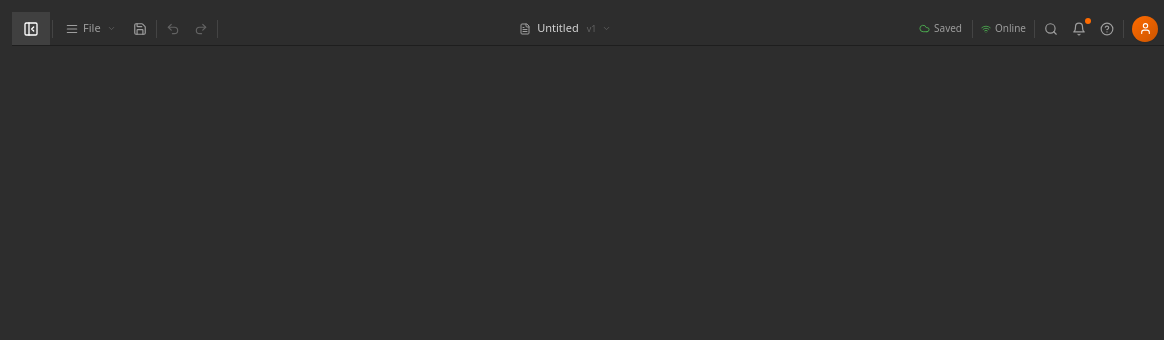
Scenario: DocumentHeader › shows keyboard shortcuts in file menu
What coordinates should you click on to do the following:
click the button "File"
I would click on:
 (90, 28)
Its box is [55,16,126,42].
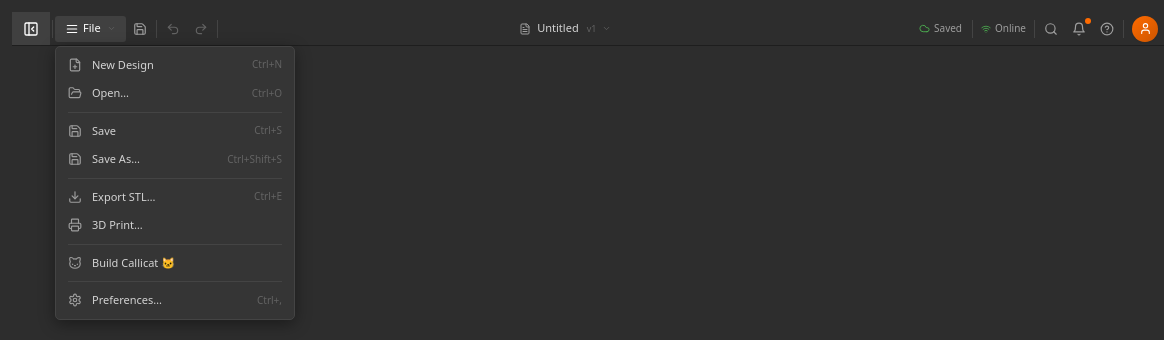
Check: the text "Ctrl+N" is shown, box [252,57,282,72]
Check: the text "Ctrl+O" is shown, box [252,86,282,101]
Check: the text "Ctrl+S" is shown, box [254,123,282,138]
